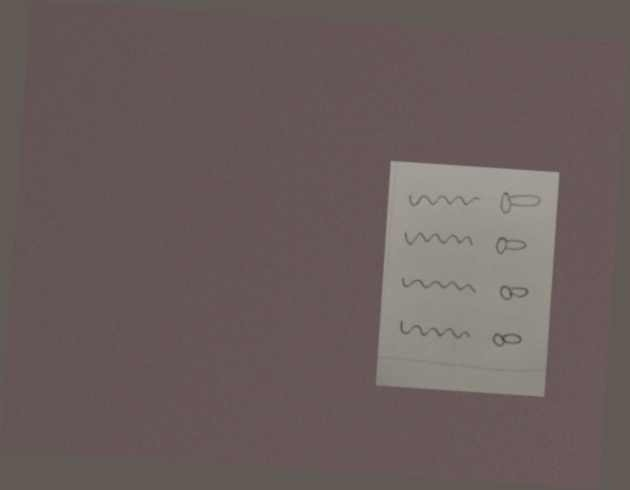switch: (495, 187, 543, 219), (492, 232, 530, 260), (495, 279, 534, 305), (488, 327, 524, 352)
text: (393, 316, 478, 347), (398, 271, 481, 302), (405, 186, 481, 217), (400, 228, 477, 254)
